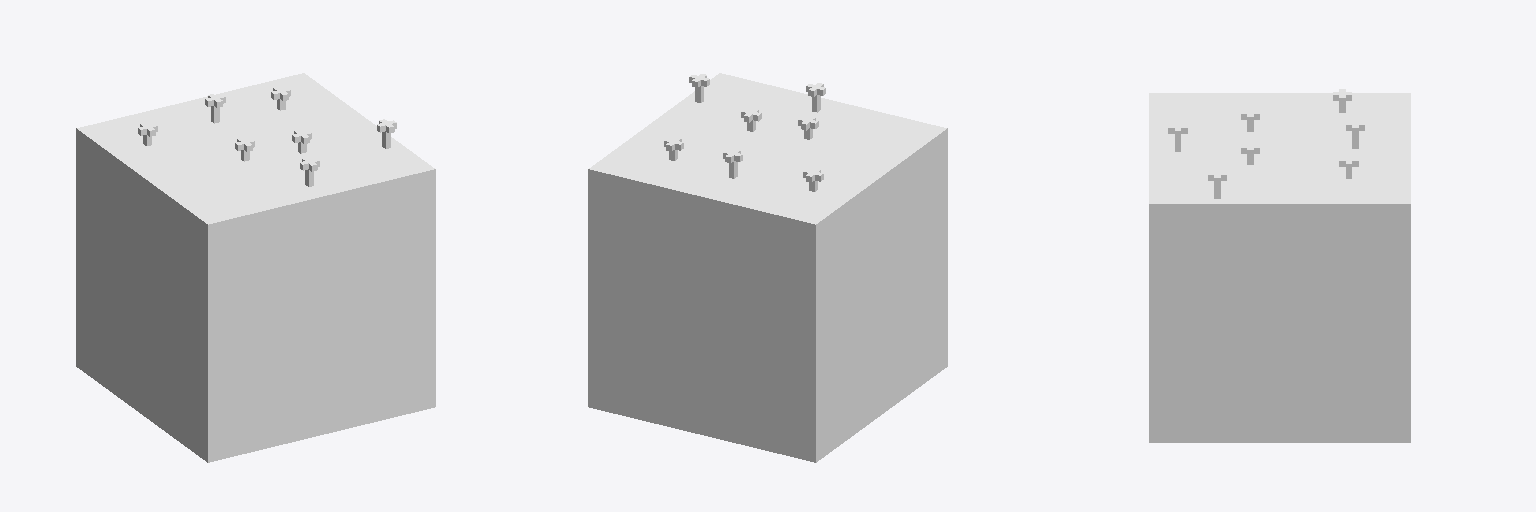
Rendered from grassFloor.obj.
3 renders of one model, left to right at view 1: azimuth 30°, elevation 25°; view 2: azimuth 150°, elevation 25°; view 3: azimuth 270°, elevation 25°, orthographic.
Visible parts, largest first — view 1: object 1; view 2: object 1; view 3: object 1.
Boxes of the visible parts, <box> form: object 1: <box>76,73,435,462</box>; object 1: <box>588,73,947,462</box>; object 1: <box>1149,89,1410,442</box>.
Size of the model in its own units: 4 by 4.4 by 4.